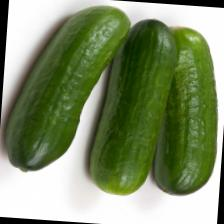cucumber: (1, 0, 131, 179), (84, 14, 180, 198), (149, 22, 224, 198)
